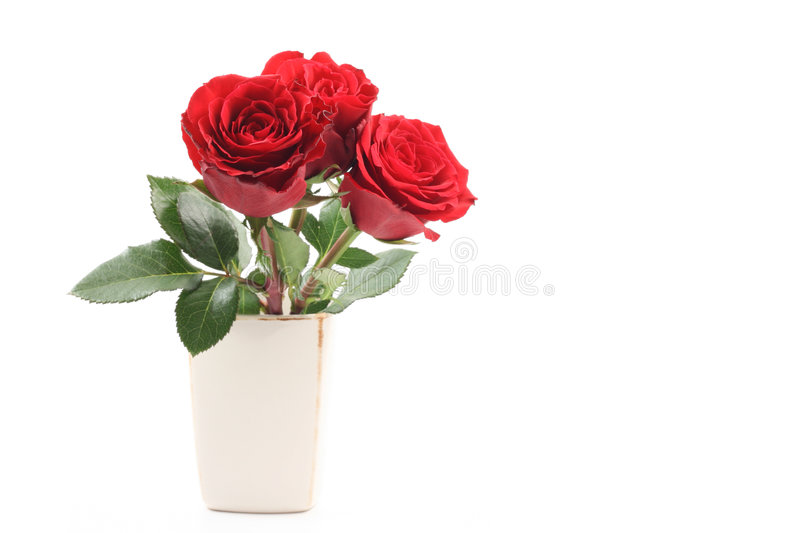RedRose: (174, 62, 350, 249), (335, 103, 461, 278), (267, 8, 386, 140)
